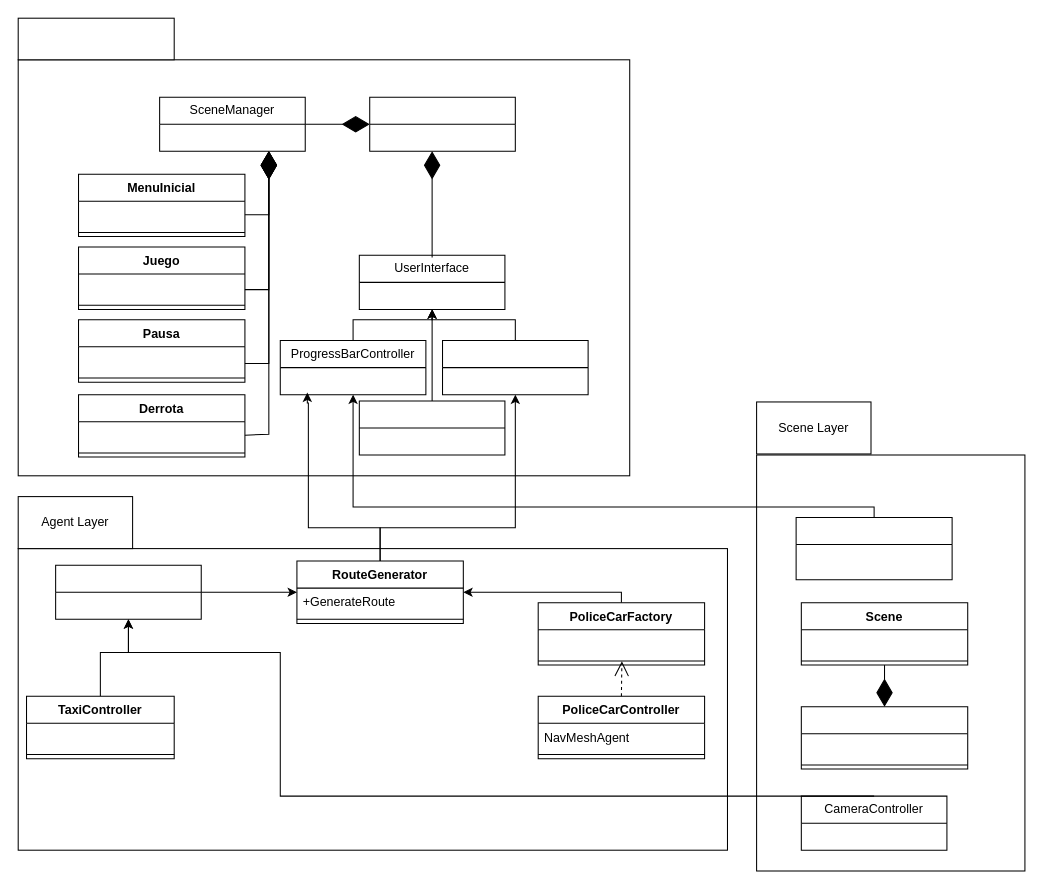
Some shapes in this 1043 by 889 pixel diagram are drawn without their labels. The centre of each missing label's shape, as x and y in pixels:
City (Juego): pixel 884 737
GameManager: pixel 442 123
GameScore: pixel 514 367
Managers Layer: pixel 95 38
PatienceObjectSpawner: pixel 873 548
PoliceAlert: pixel 431 427
Taxi: pixel 128 591
